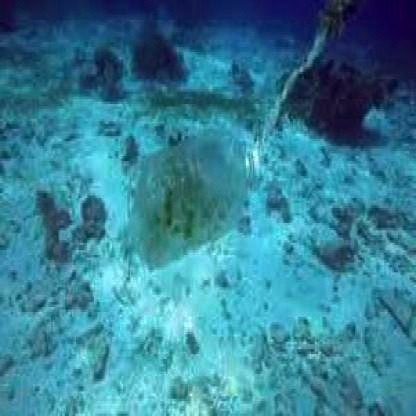pbottle: (124, 119, 271, 270)
